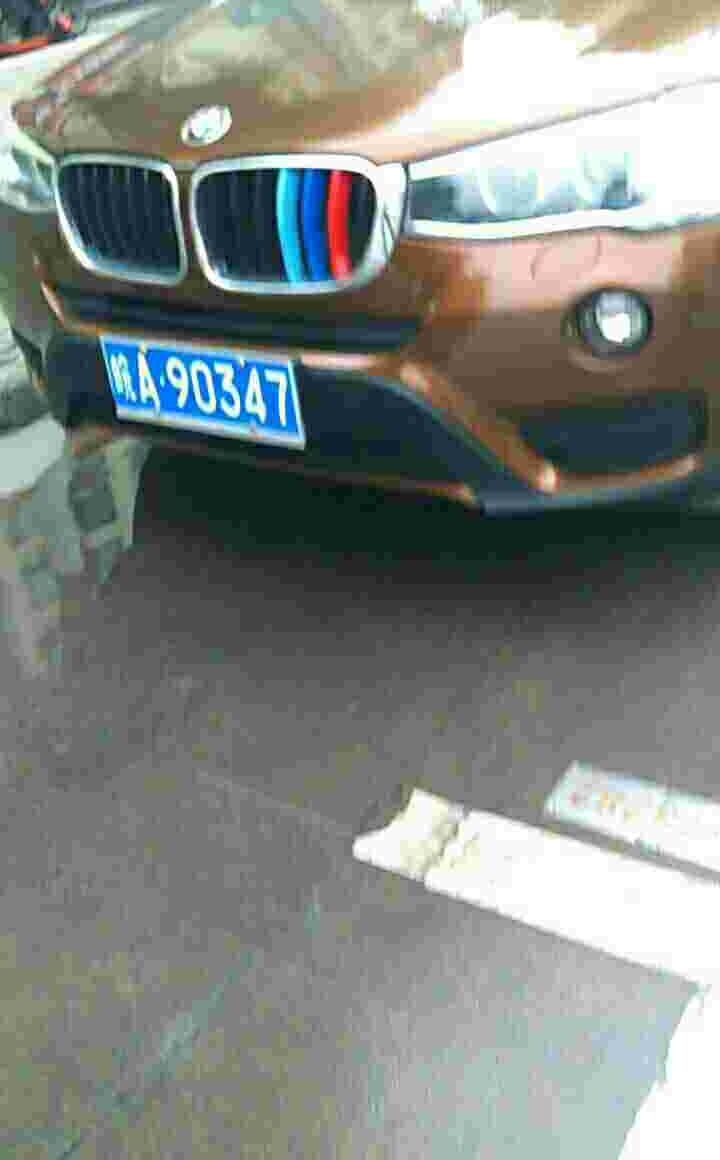plate: (96, 329, 112, 443)
